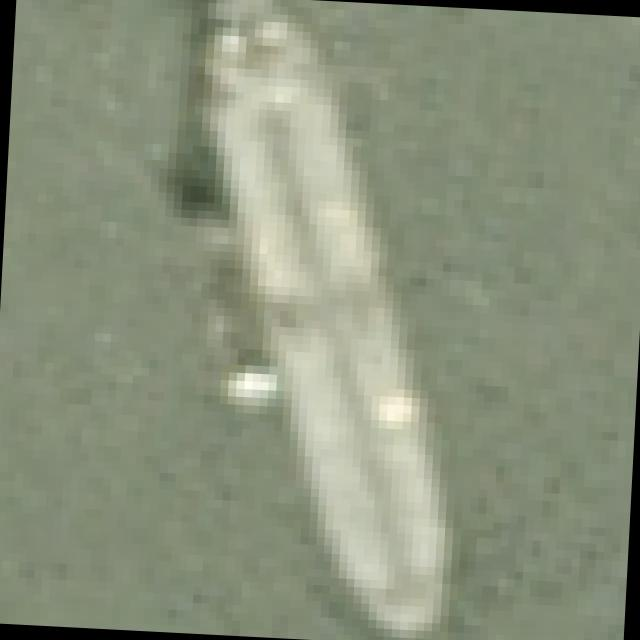ship: (125, 0, 527, 640)
